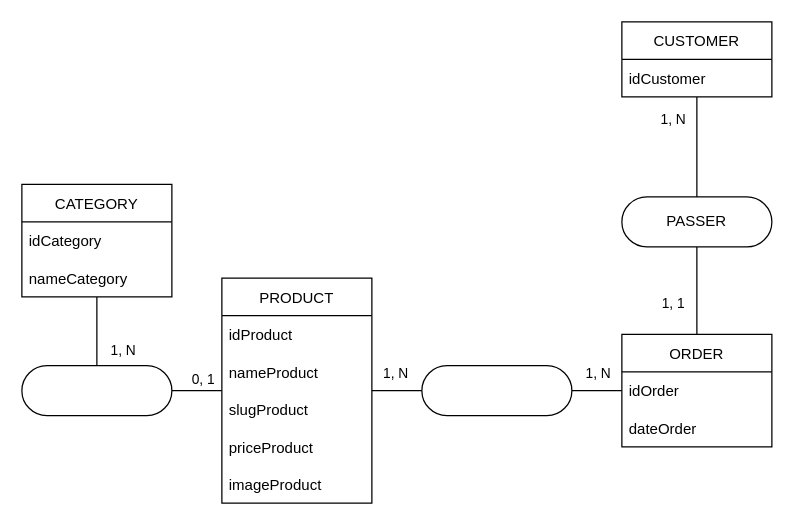
This 794x525 diagram has some shape labels left out. Here are the shapes that lost their labels. From the top down, the centre of each, then its label:
point (96, 390): POSSEDER
point (496, 390): COMPOSÉ
